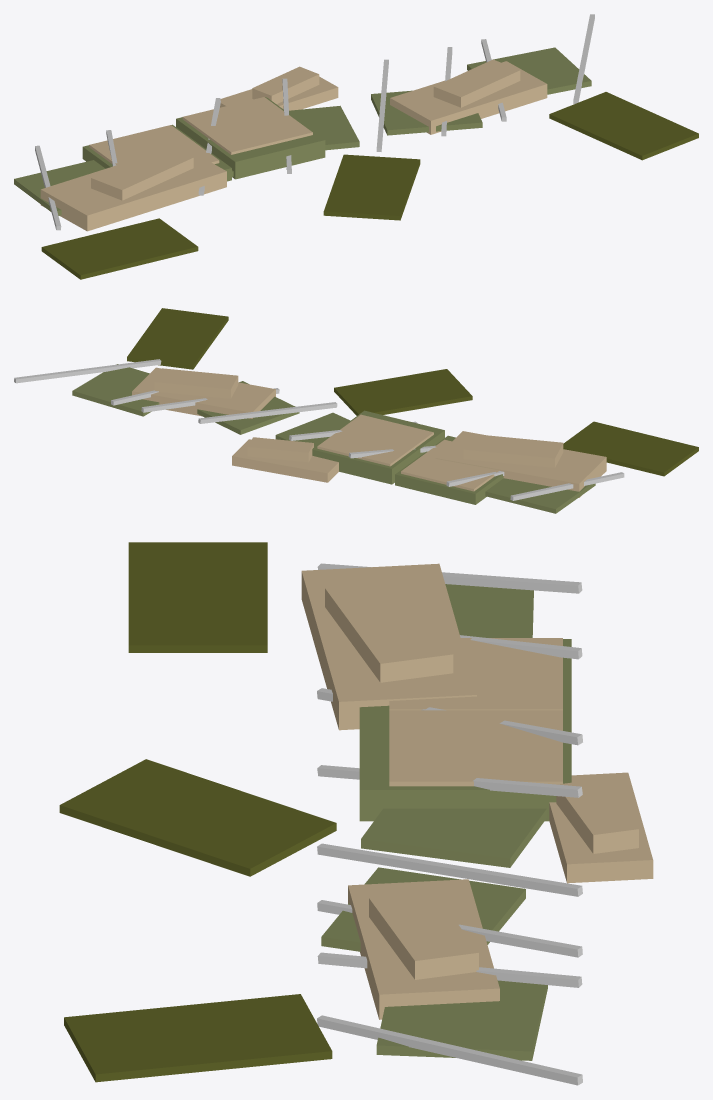
Rendered from SM_HescoCorto4_v4_Red_e3_Brecha_LOD0.fbx.
The picture shows the model from 3 angles, top to bottom: view 1: azimuth 30°, elevation 25°; view 2: azimuth 150°, elevation 25°; view 3: azimuth 270°, elevation 25°; orthographic projection. The views are drawn at different scales.
Parts seen in each view (by area): view 1: SM_hesco_piezas_v119_LOD0; view 2: SM_hesco_piezas_v119_LOD0; view 3: SM_hesco_piezas_v119_LOD0.
Boxes of the visible parts, box(x1,y1,x2,y2) form: SM_hesco_piezas_v119_LOD0: box(14, 14, 698, 279); SM_hesco_piezas_v119_LOD0: box(14, 308, 698, 513); SM_hesco_piezas_v119_LOD0: box(59, 542, 653, 1085).
Bounding box in the file's own units: 7.61 × 0.3263 × 3.42.
